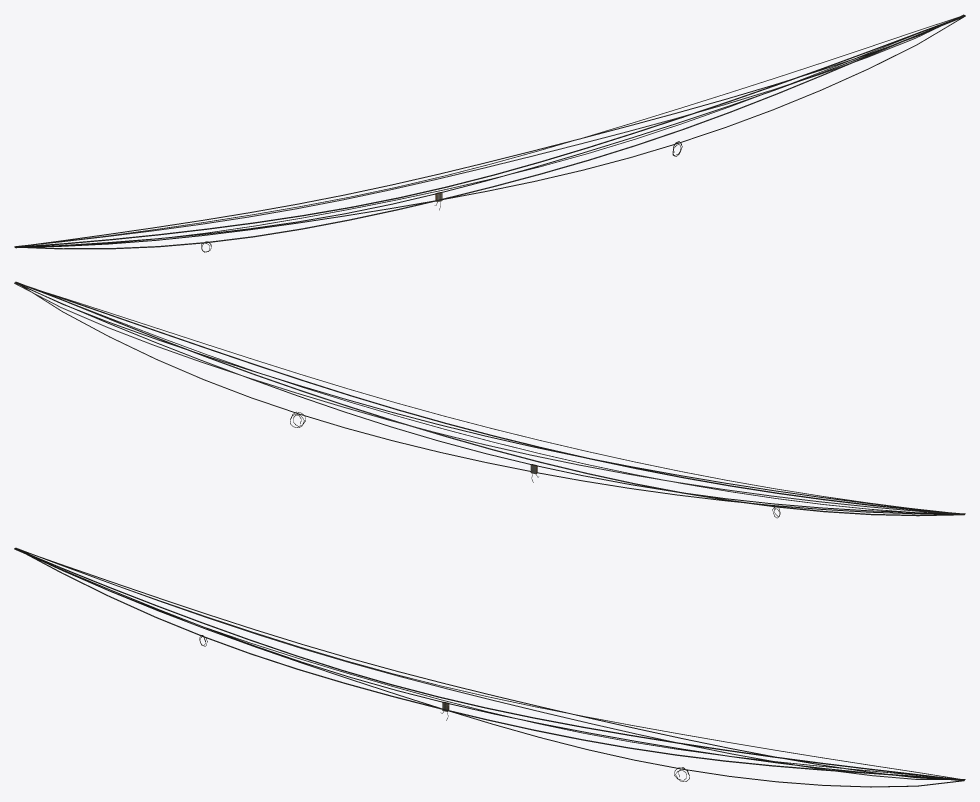
Rendered from cable_bundle.glb.
The picture shows the model from 3 angles, top to bottom: view 1: azimuth 30°, elevation 25°; view 2: azimuth 150°, elevation 25°; view 3: azimuth 330°, elevation 25°; orthographic projection.
Visible parts, largest first — view 1: body; view 2: body; view 3: body.
Part boxes in pixels (x1=…): body: x1=14, y1=14, x2=965, y2=252; body: x1=14, y1=281, x2=965, y2=518; body: x1=14, y1=547, x2=965, y2=787.
Size of the model in its own units: 28.01 by 2.09 by 0.5753.
1 material, 1 textured.
